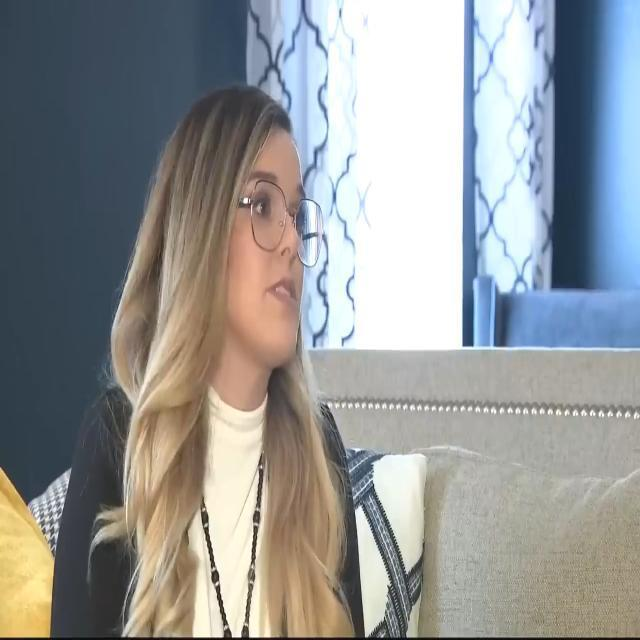non-fight: (50, 60, 533, 640)
